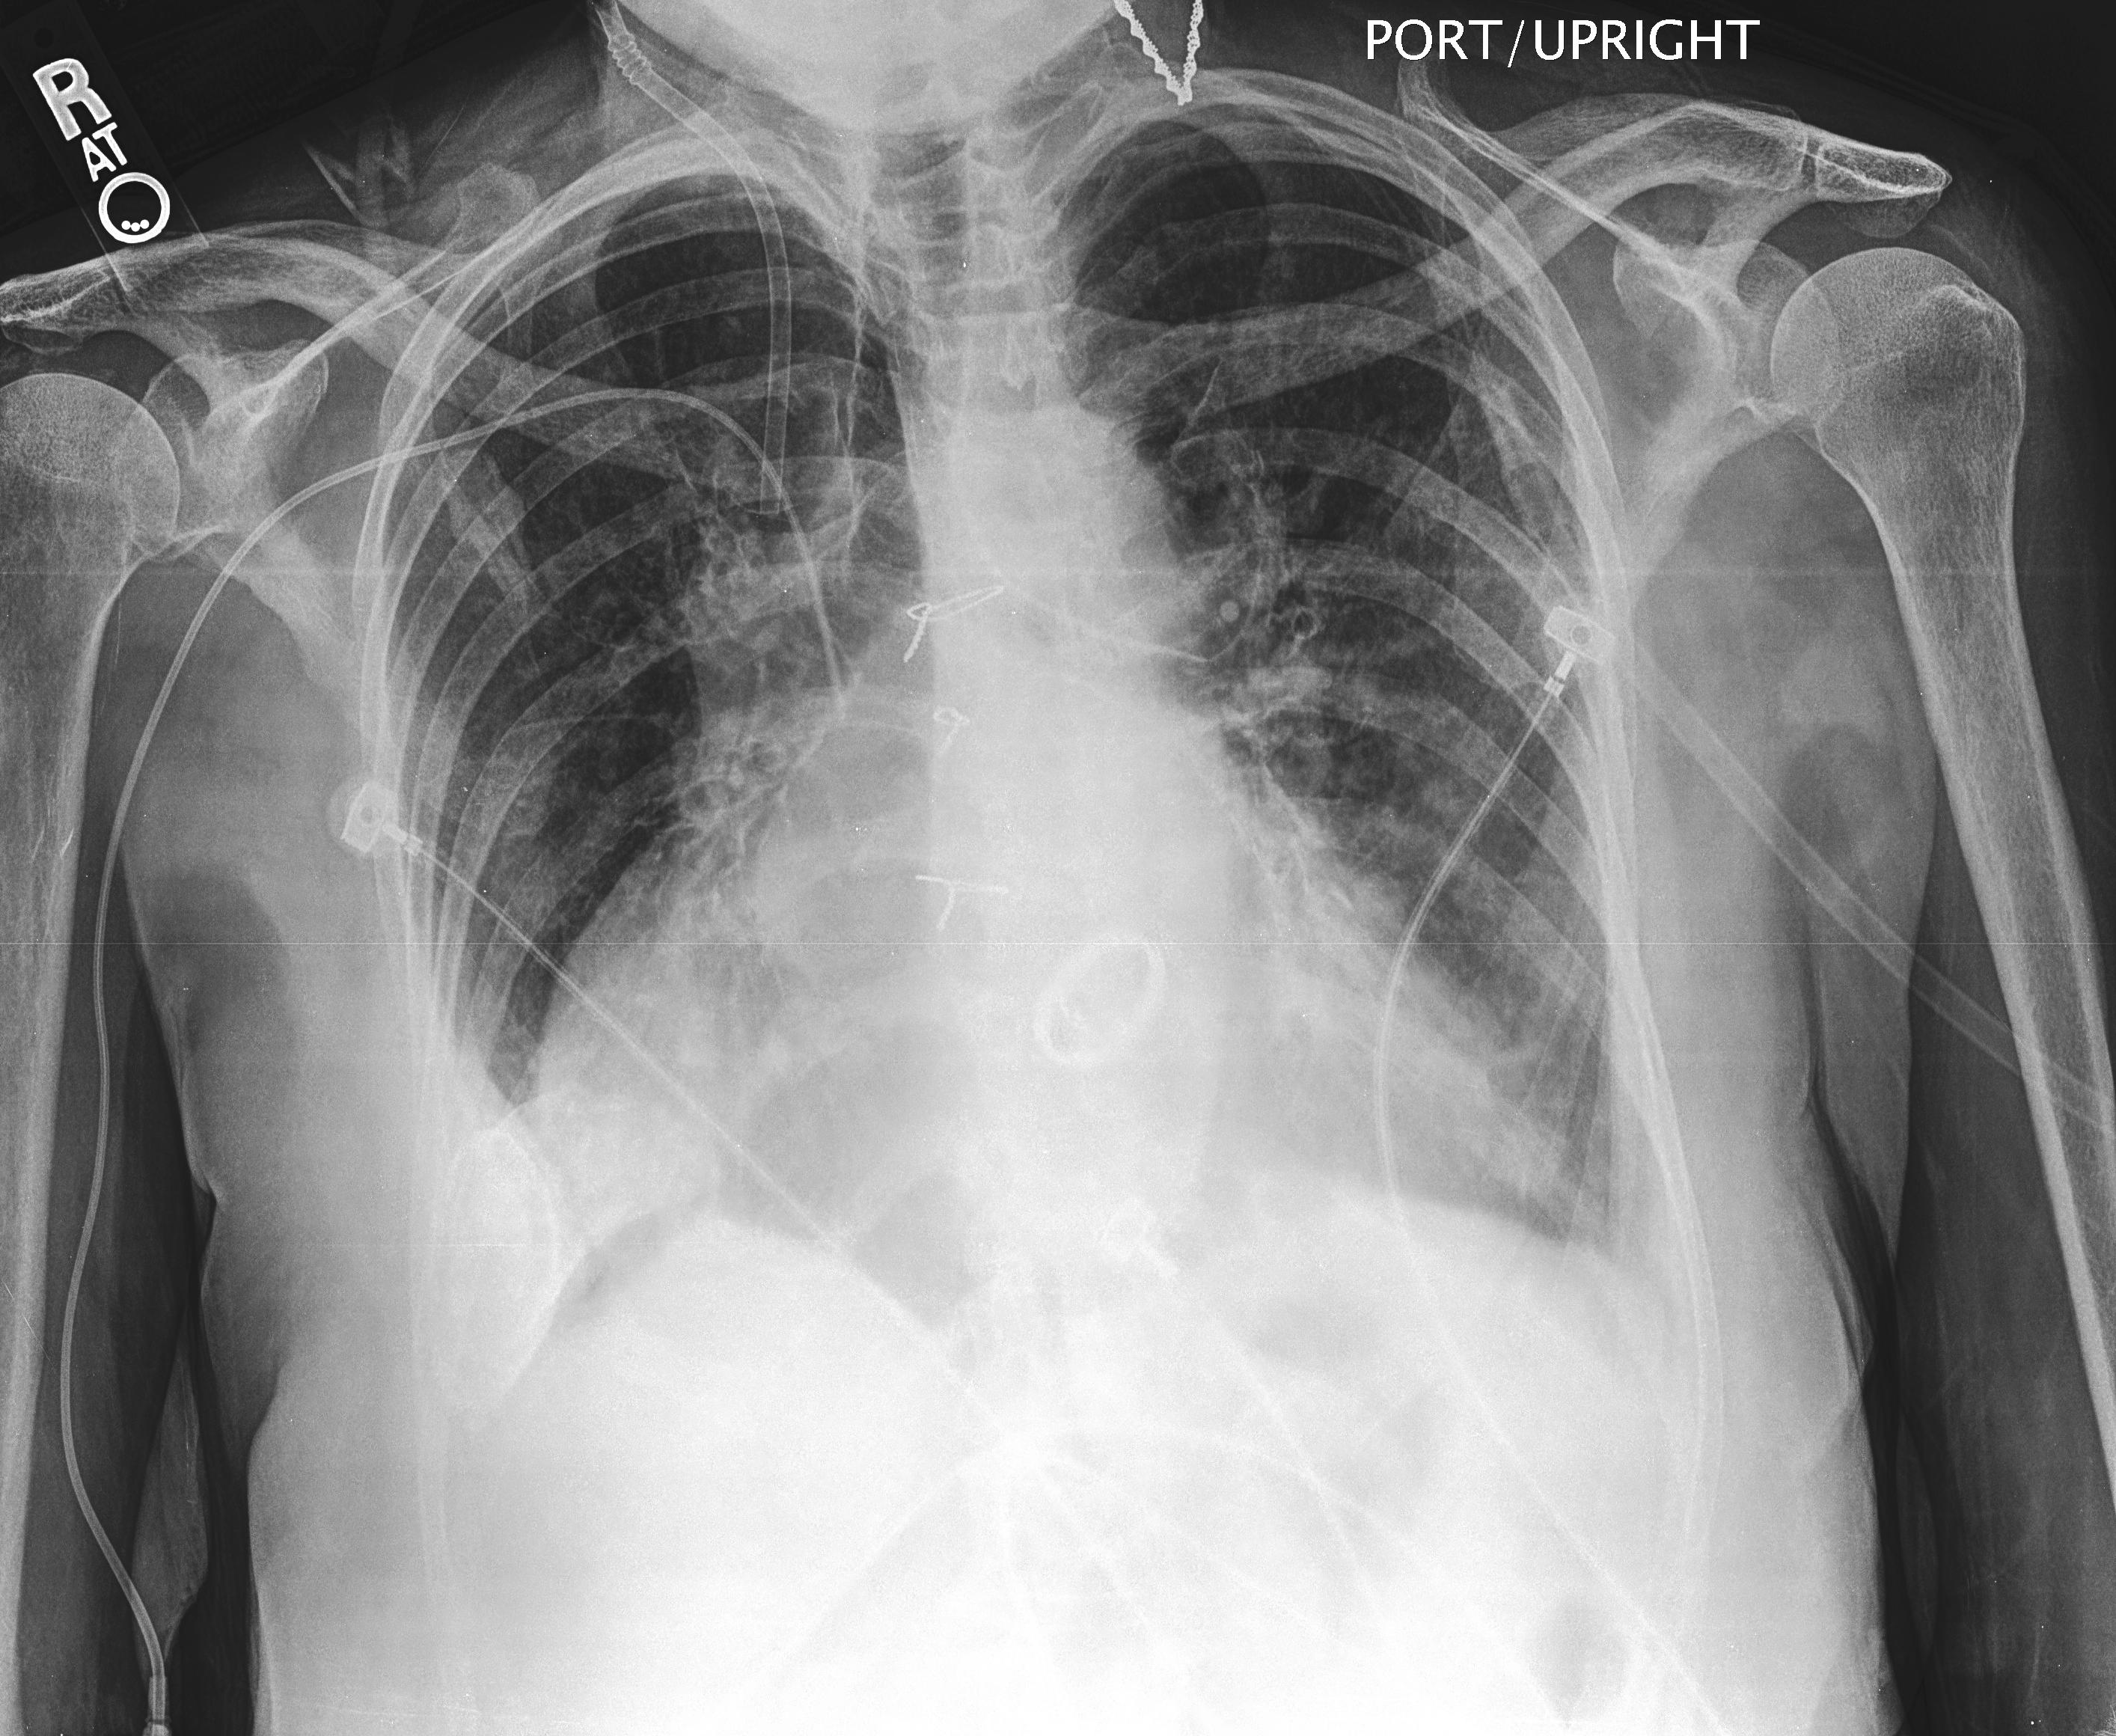Pleural Effusion: (359, 1035, 817, 1469)
